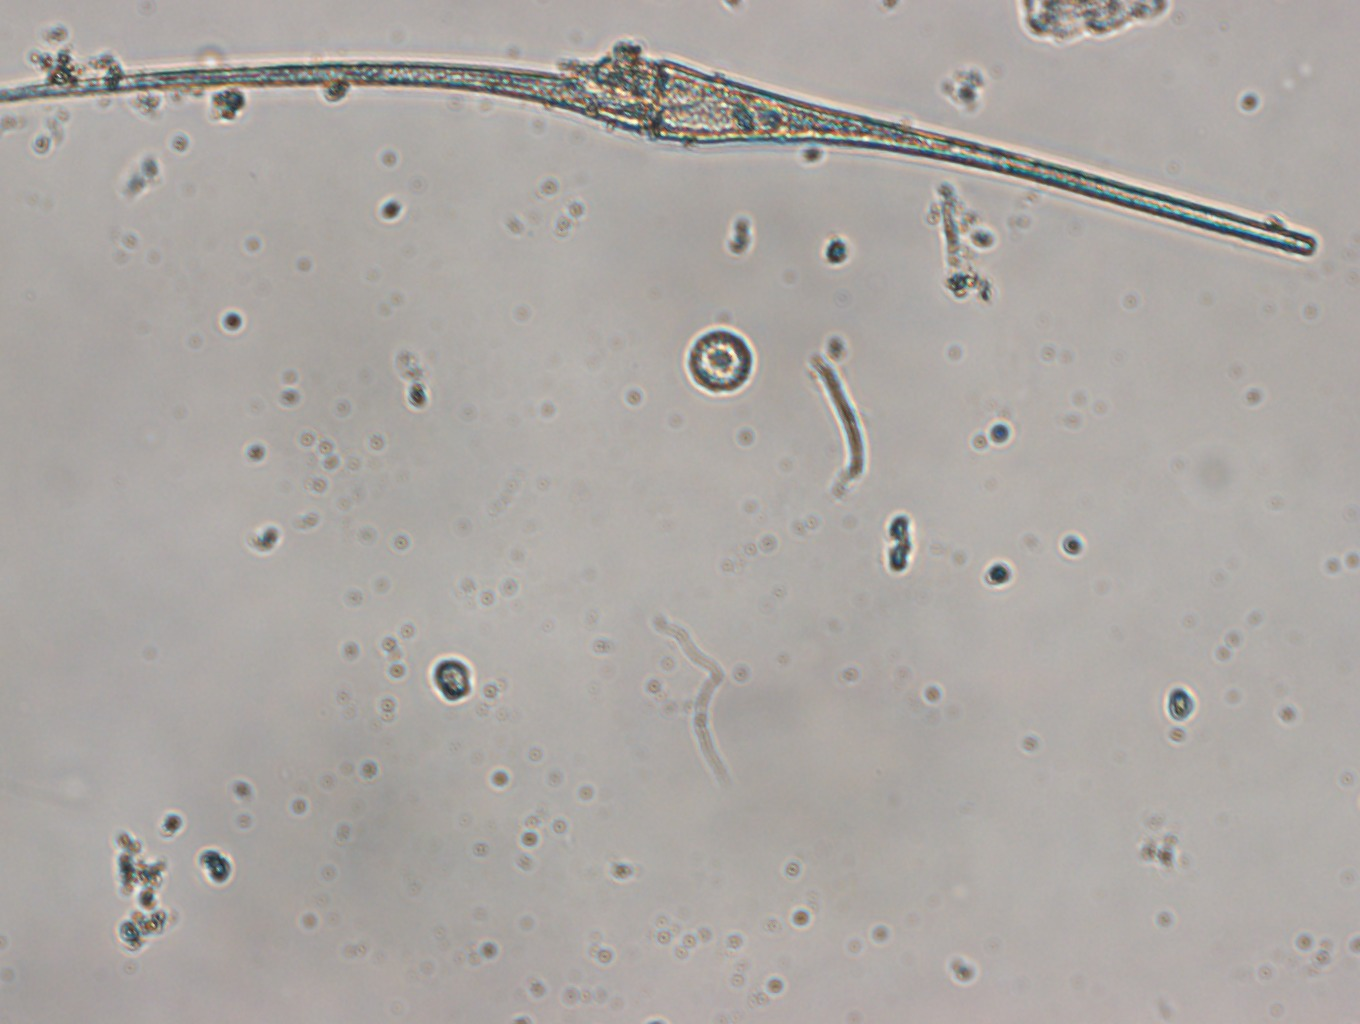ceratium fusus: (1, 49, 1327, 261)
